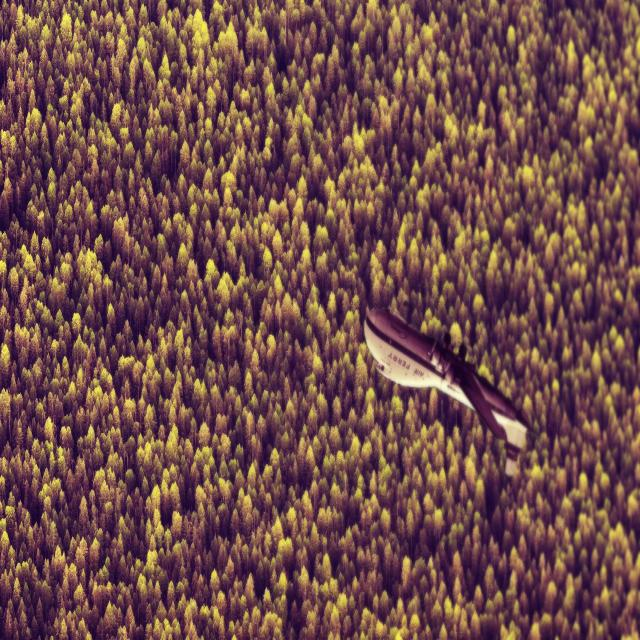airplane: (363, 304, 538, 478)
